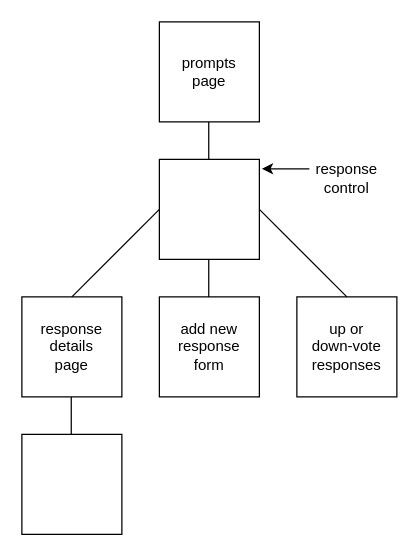
Some shapes in this 419 by 556 pixel diagram are drawn without their labels. The shapes that lost their labels are listed below. From the top down, each one's centre as x and y in pixels, then its label:
At point (208, 208): "prompt details page".
At point (71, 483): "delete response".
